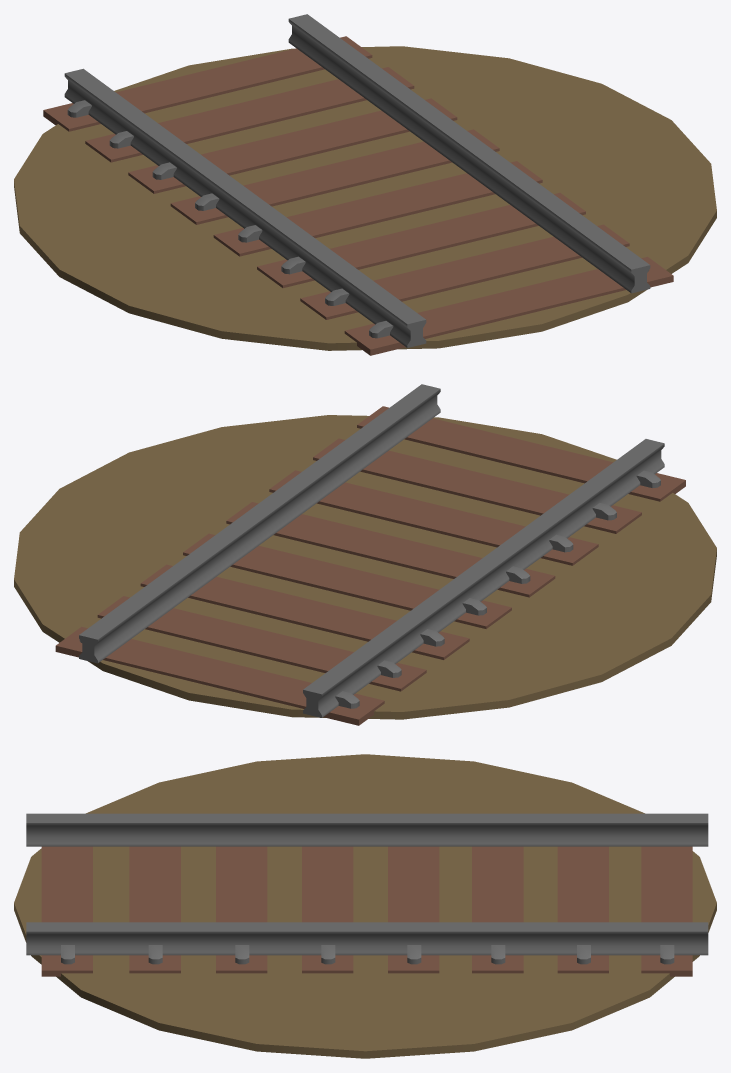
File: Trilho_roda.fbx
3 views of the same model, one above another, from view 1: azimuth 30°, elevation 25°; view 2: azimuth 150°, elevation 25°; view 3: azimuth 270°, elevation 25° (orthographic).
Parts seen in each view (by area): view 1: roda_trilho; view 2: roda_trilho; view 3: roda_trilho.
Part boxes in pixels (box(x1,y1,x2,y2)): roda_trilho: box(14, 14, 716, 355); roda_trilho: box(14, 384, 716, 725); roda_trilho: box(14, 754, 716, 1058).
Bounding box in the file's own units: 410 × 21.93 × 410.
